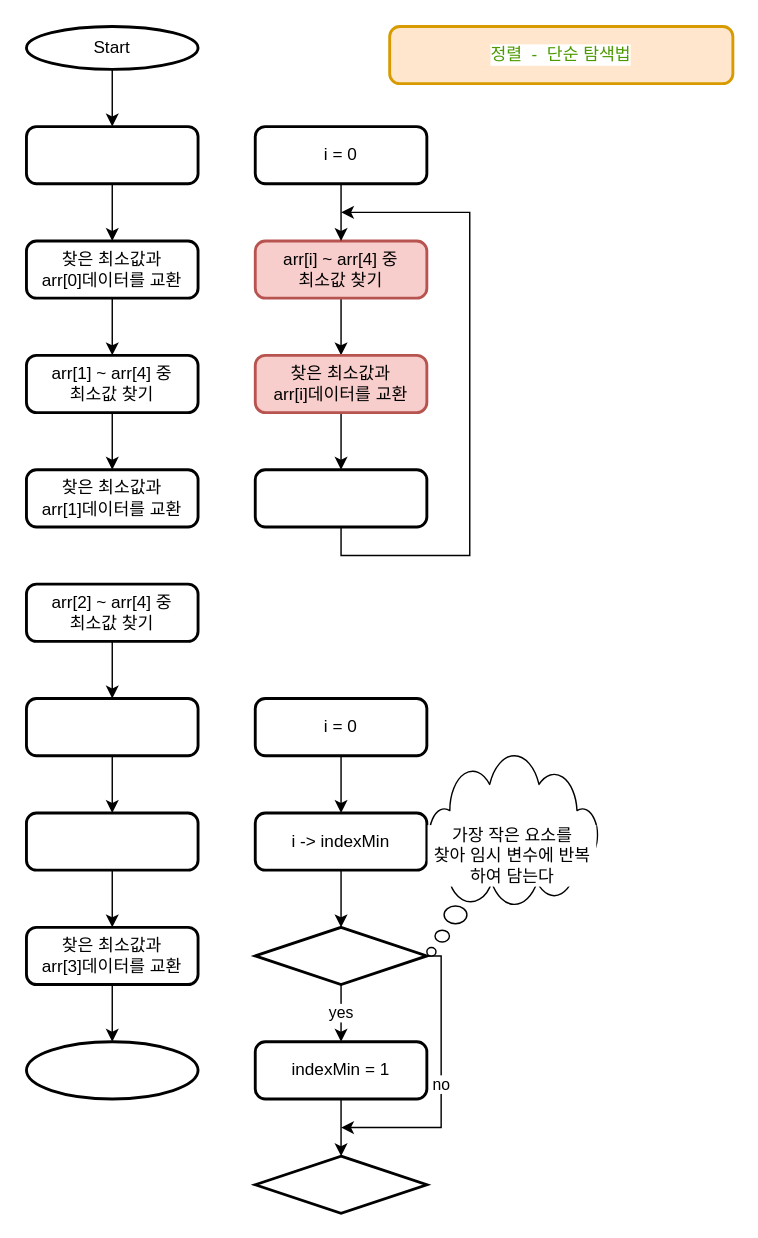
Some shapes in this 758 by 1238 pixel diagram are drawn without their labels. Each missing label, with the centre of its shape:
"arr[0] ~ arr[4] 중 최소값 찾기" belongs at [111,154].
"arr[1] < arr[indexMin]" belongs at [340,955].
"arr[2] < arr[indexMin]" belongs at [340,1184].
"arr[3] ~ arr[4] 중 최소값 찾기" belongs at [111,841].
"End" belongs at [111,1070].
"i = i + 1" belongs at [340,498].
"찾은 최소값과 arr[2]데이터를 교환" belongs at [111,726].
